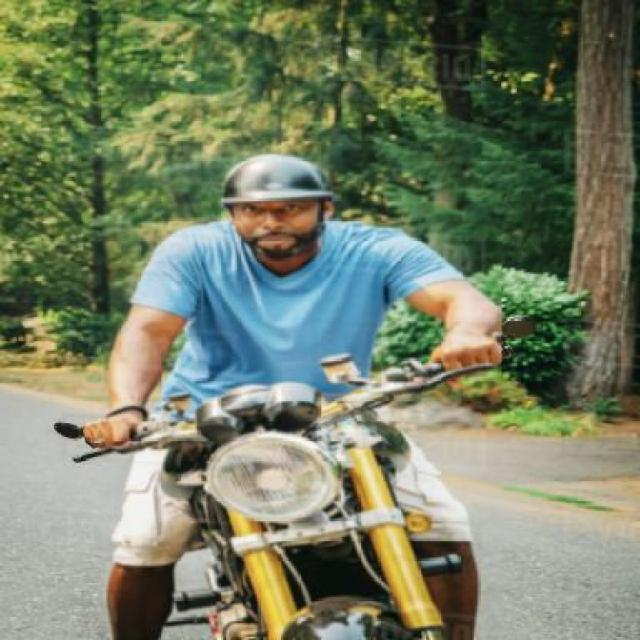helmet: (213, 156, 350, 264)
motorcycle: (47, 147, 524, 640)
